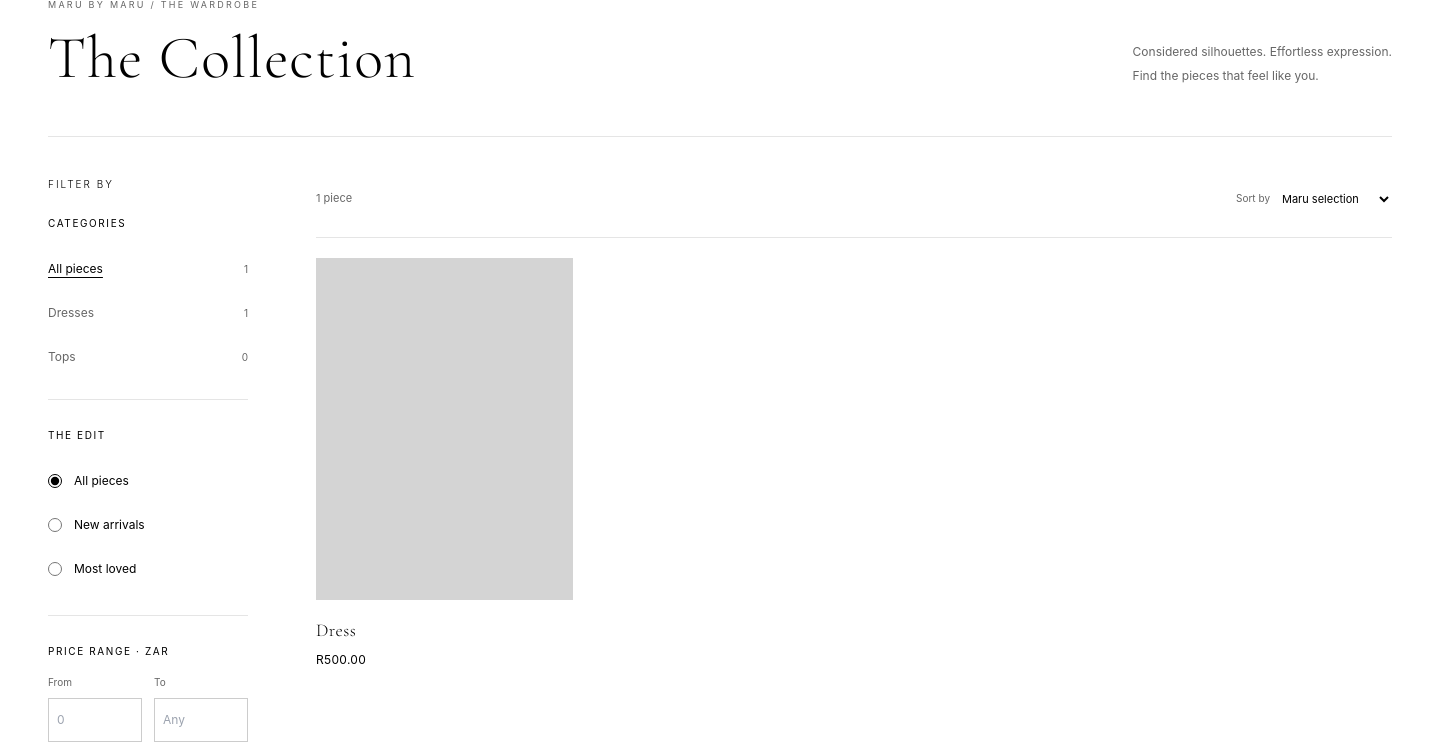
Test case: database-backed storefront selections › applies entered prices and lets shoppers recover from an empty selection
This screenshot has width=1440, height=744.
Type "400" into the number field named "Maximum price". click: (201, 720)
box: [154,698,248,742]
(page scrolled)
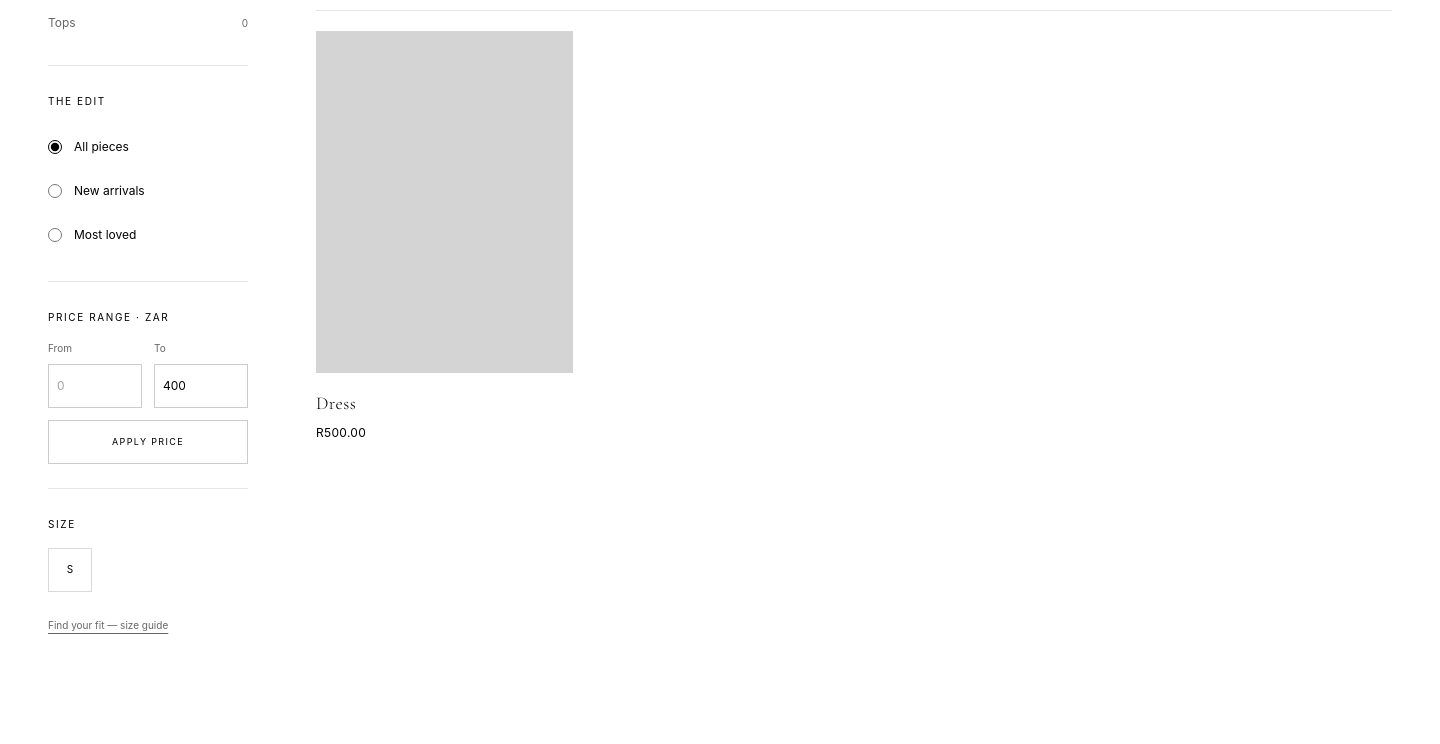
Click the button "Apply price". click: (148, 442)
box: [48,420,248,464]
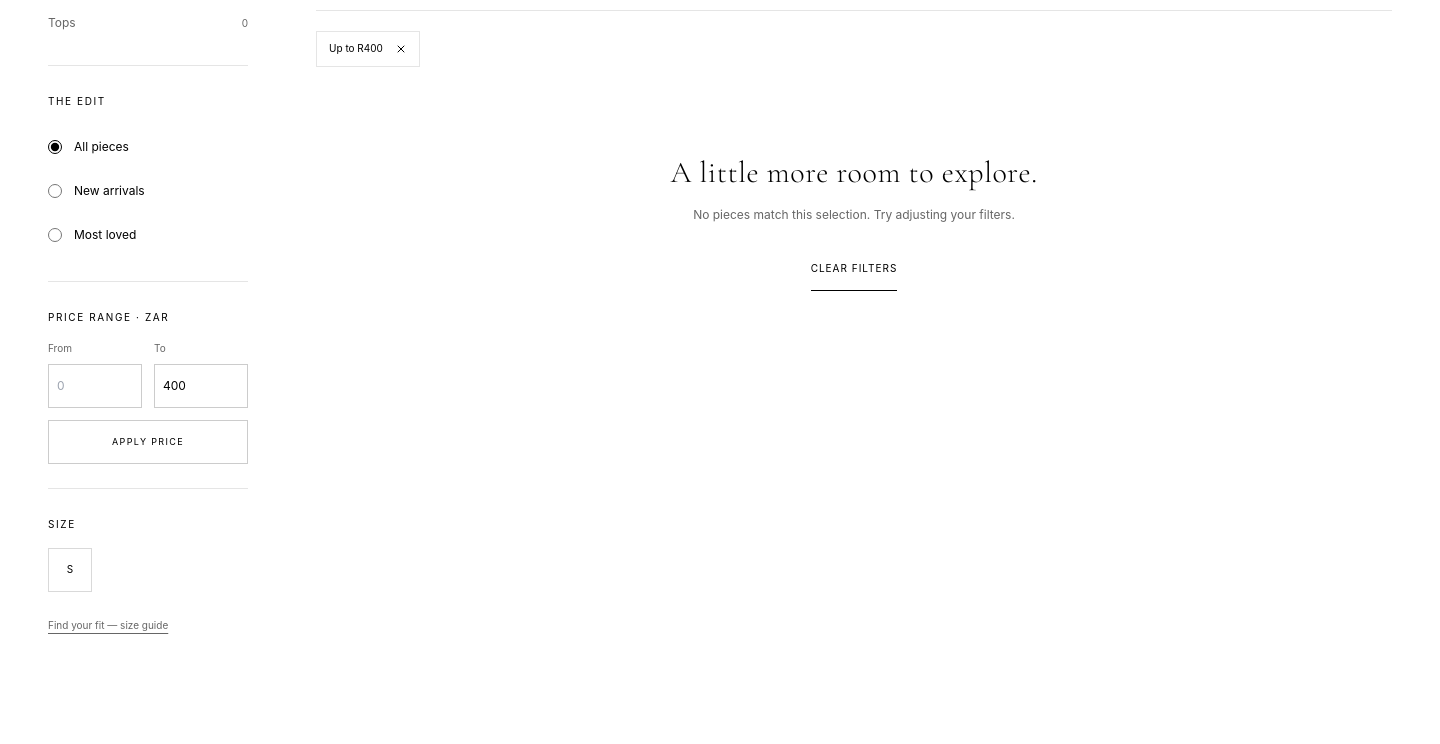
Result: the text "No pieces match this selection. Try adjusting your filters." is shown at [693,206,1015,222]
Click the button "Clear filters". click: (854, 268)
box: [811,246,897,290]
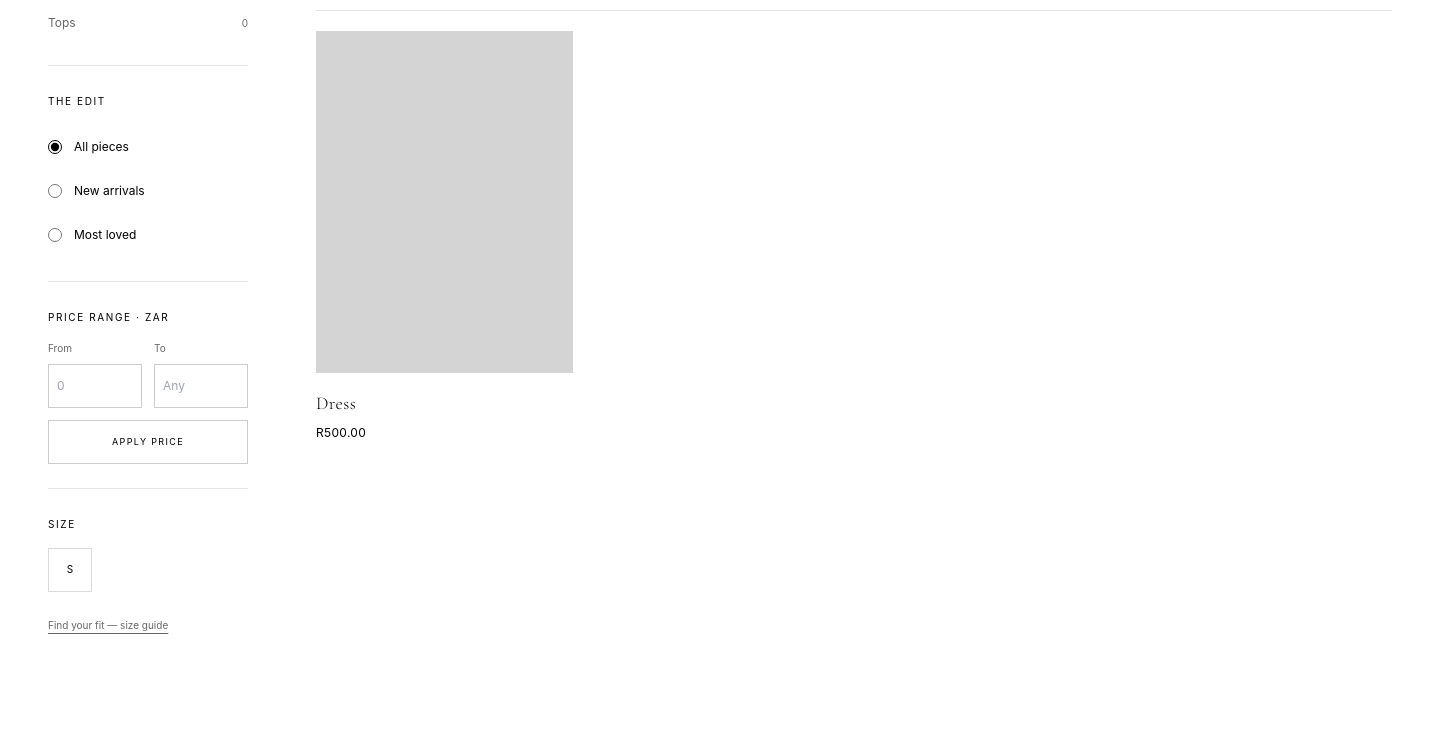
Result: the number field named "Maximum price" is not empty at [154,364,248,408]
